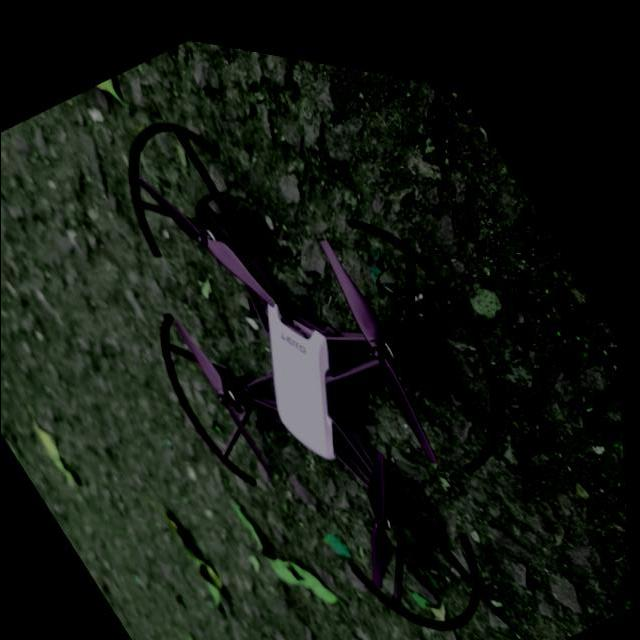drone: (127, 111, 507, 624)
